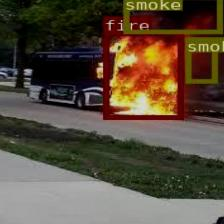fire: (103, 31, 182, 119)
smoke: (122, 0, 222, 33), (184, 36, 216, 82)
